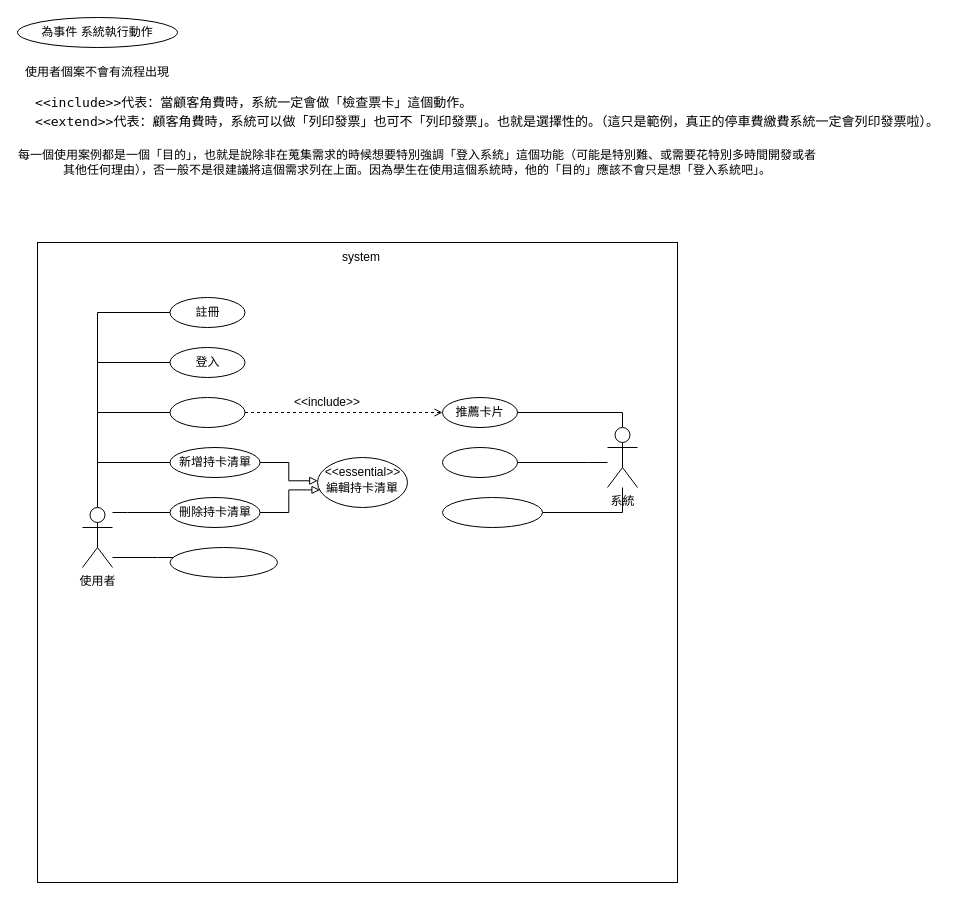
The diagram is 957 pixels wide and 900 high, and some of its shapes have lost their labels. The shapes that lost their labels are listed below. From the top down, each one's centre as x and y in pixels, then its label:
(207,412): 搜尋店家
(480,462): 分類標籤
(492,512): 計算回饋金額
(223,562): 查看短期優惠資訊
